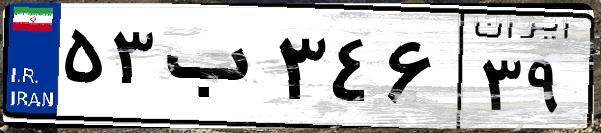3: (270, 28, 330, 110), (475, 38, 525, 113), (110, 28, 158, 98)
4: (330, 28, 385, 110)
5: (57, 26, 110, 100)
6: (385, 28, 445, 110)
9: (525, 38, 570, 115)
ب: (158, 20, 270, 120)
